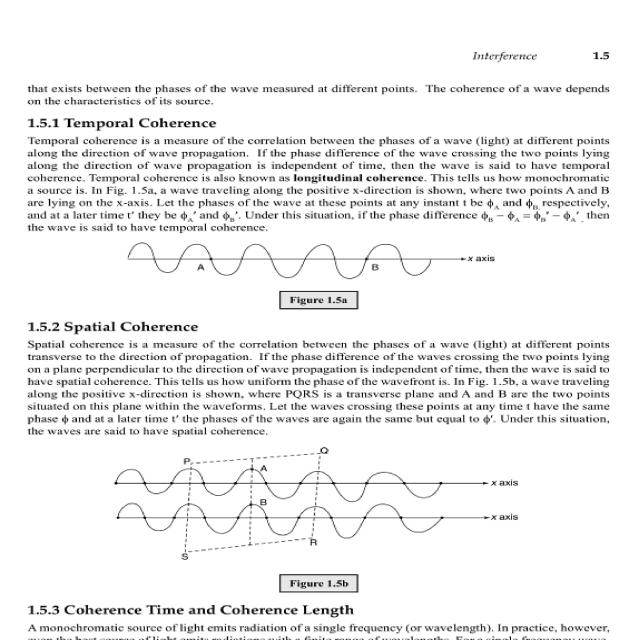diagram: (106, 438, 630, 592), (91, 241, 612, 322)
